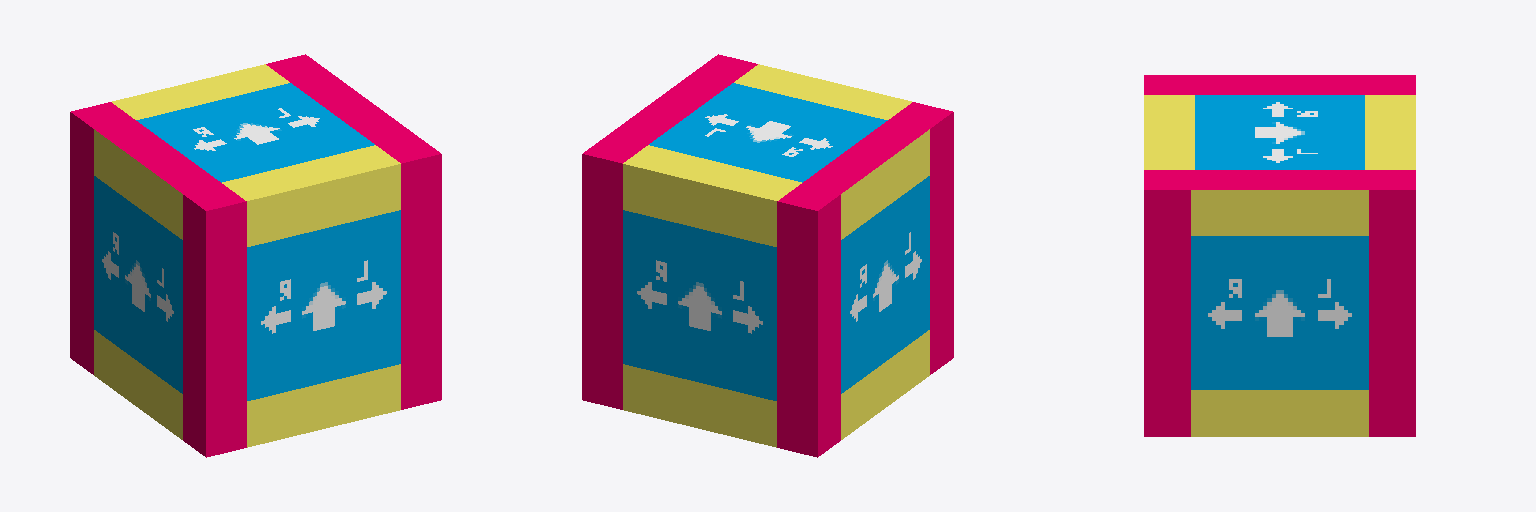
The picture shows the model from 3 angles: view 1: azimuth 30°, elevation 25°; view 2: azimuth 150°, elevation 25°; view 3: azimuth 270°, elevation 25°; orthographic projection.
Parts seen in each view (by area): view 1: Cube; view 2: Cube; view 3: Cube.
Boxes of the visible parts, box(x1,y1,x2,y2) form: Cube: box(70, 54, 441, 457); Cube: box(582, 54, 953, 457); Cube: box(1144, 75, 1415, 436).
Size of the model in its own units: 2 by 2 by 2.
1 materials, 1 textured.